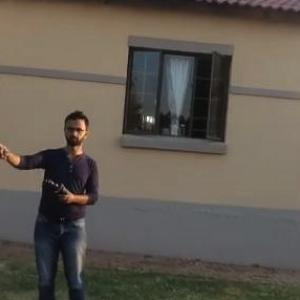follow: (0, 106, 109, 299)
